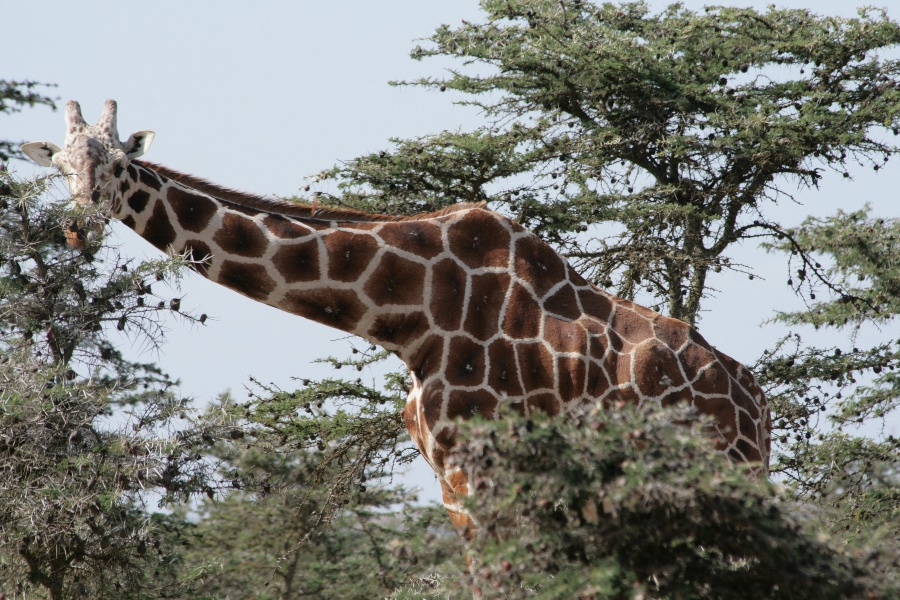giraffe: (18, 87, 782, 589)
